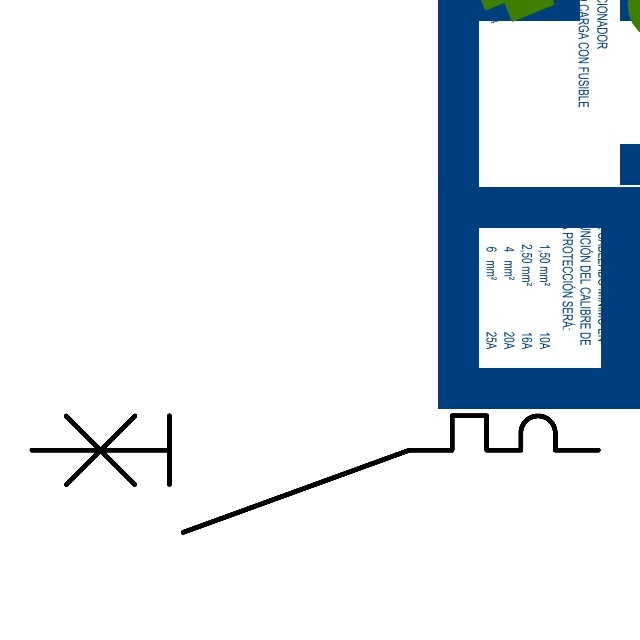interruptor_termomagnetico: (17, 401, 613, 547)
